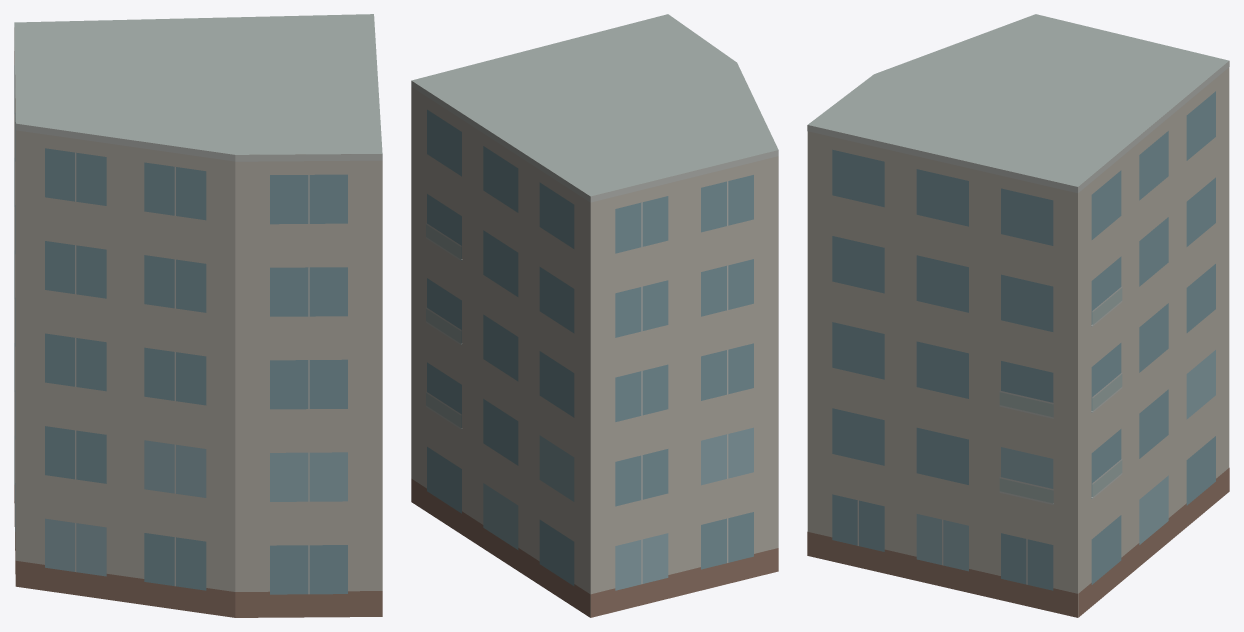
File: survey-upis-32780885.glb
3 views of the same model, side by side, from view 1: azimuth 30°, elevation 25°; view 2: azimuth 150°, elevation 25°; view 3: azimuth 270°, elevation 25° (orthographic). The views are drawn at different scales.
Visible parts, largest first — view 1: survey-upis-32780885.tmp; view 2: survey-upis-32780885.tmp; view 3: survey-upis-32780885.tmp.
Part boxes in pixels (x1,y1,x2,y2): survey-upis-32780885.tmp: (14,14,382,617); survey-upis-32780885.tmp: (411,14,778,617); survey-upis-32780885.tmp: (807,14,1229,617).
Size of the model in its own units: 14.39 by 16.7 by 14.83.
